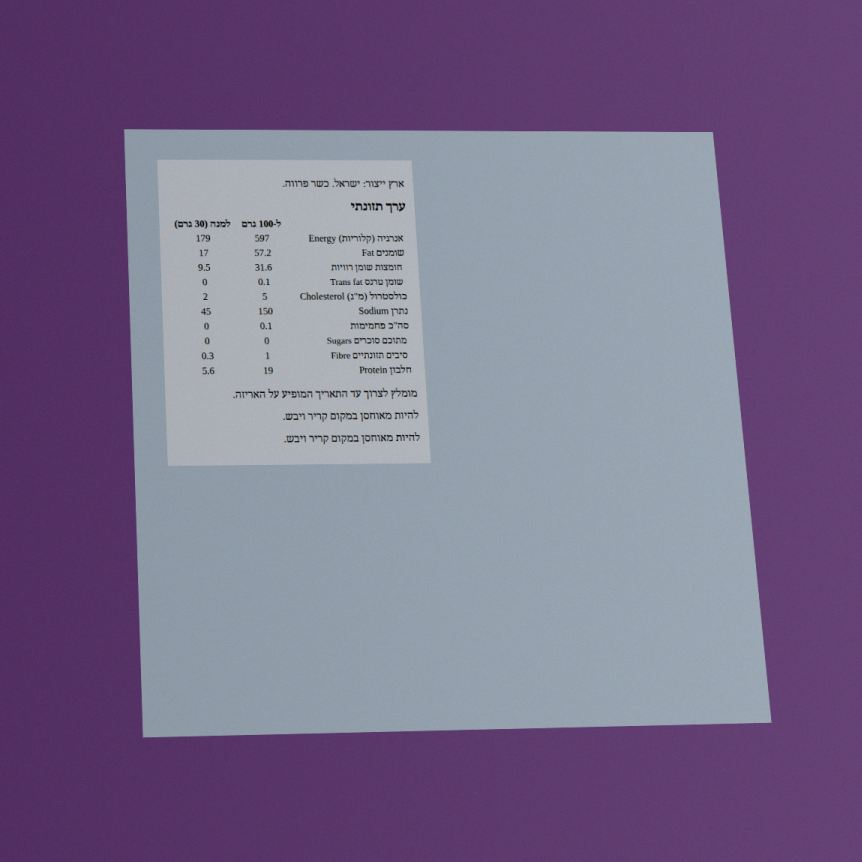carbs: (258, 319, 274, 333)
energy: (253, 232, 271, 246)
fat: (253, 246, 273, 260)
protein: (262, 364, 275, 378)
